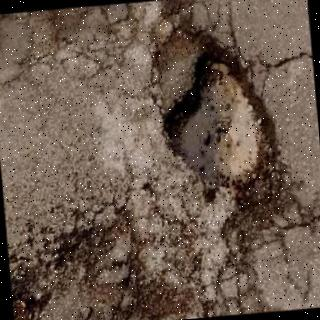pothole: (148, 24, 288, 248), (10, 203, 193, 320)
